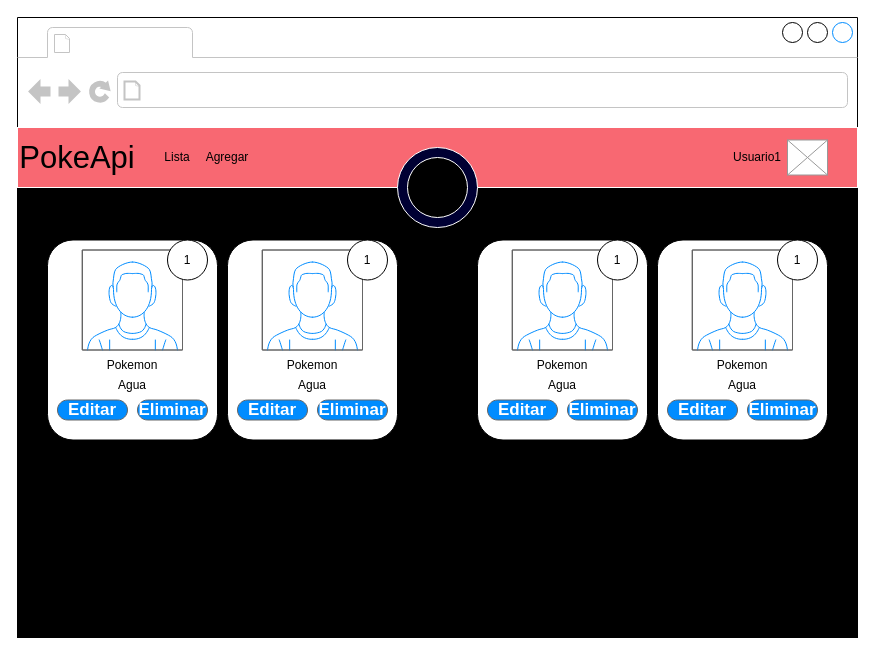
The diagram is 875 pixels wide and 655 high, and some of its shapes have lost their labels. Each missing label, with the centre of its shape:
"https://localhost:4200" goes at [272,90].
"Poke Api" goes at [132,42].
